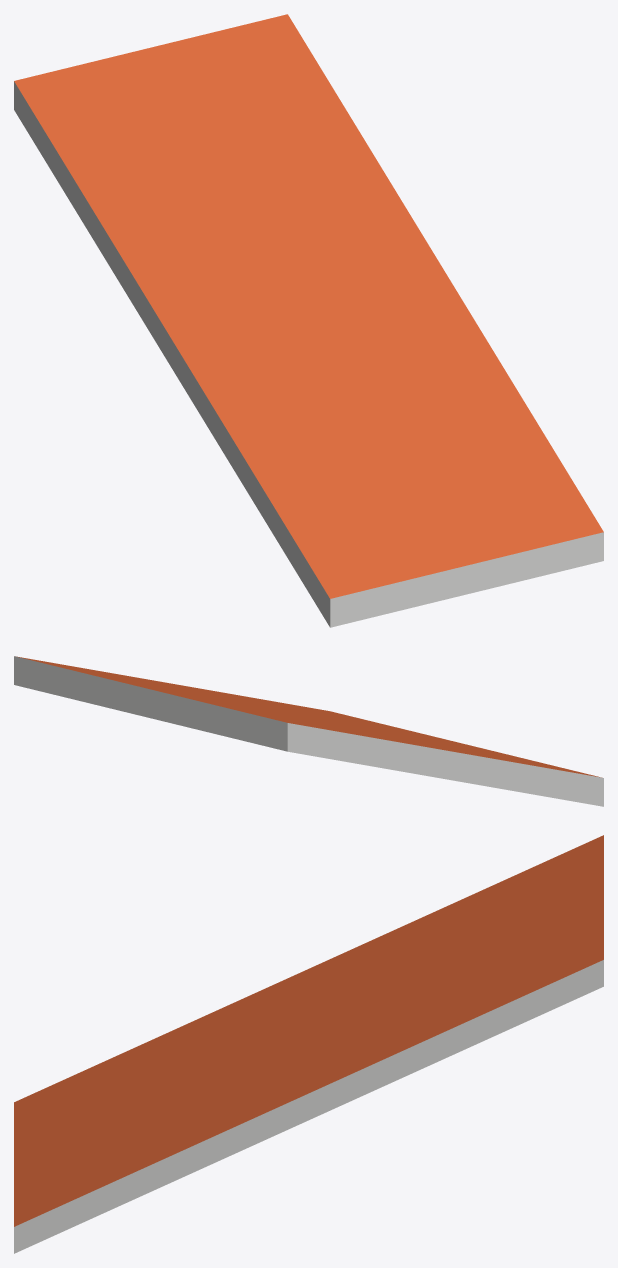
File: telhado_meia_agua_v2_i50_1m.glb
The picture shows the model from 3 angles, top to bottom: view 1: azimuth 30°, elevation 25°; view 2: azimuth 150°, elevation 25°; view 3: azimuth 270°, elevation 25°; orthographic projection. The views are drawn at different scales.
Visible parts, largest first — view 1: telhado_meia_agua_v2_i50_1m; view 2: telhado_meia_agua_v2_i50_1m; view 3: telhado_meia_agua_v2_i50_1m.
Boxes of the visible parts, x1,y1,x2,y2 form: telhado_meia_agua_v2_i50_1m: (14, 14, 603, 627); telhado_meia_agua_v2_i50_1m: (14, 656, 603, 806); telhado_meia_agua_v2_i50_1m: (14, 835, 603, 1253).
Size of the model in its own units: 1 by 1.1 by 2.
